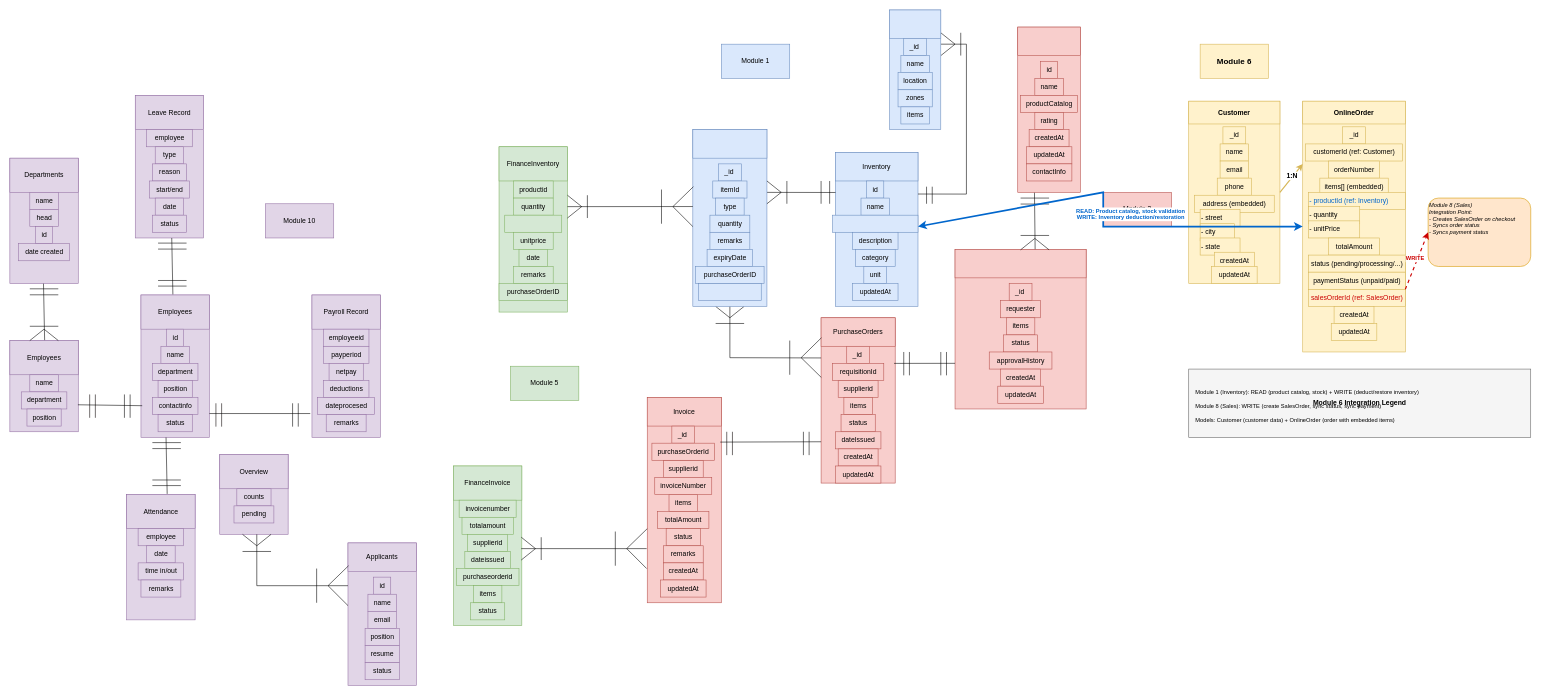
The diagram is 1541 pixels wide and 695 high, and some of its shapes have lost their labels. Here are the shapes that lost their labels. From the top down, the centre of each, then its label:
At (x=915, y=23): "Warehouse".
At (x=1048, y=41): "Suppliers".
At (x=729, y=143): "Transaction".
At (x=533, y=223): "transactiontype".
At (x=875, y=223): "sku (stock keeping unit)".
At (x=1020, y=263): "Requisitions".
At (x=729, y=292): "transactionDate".
